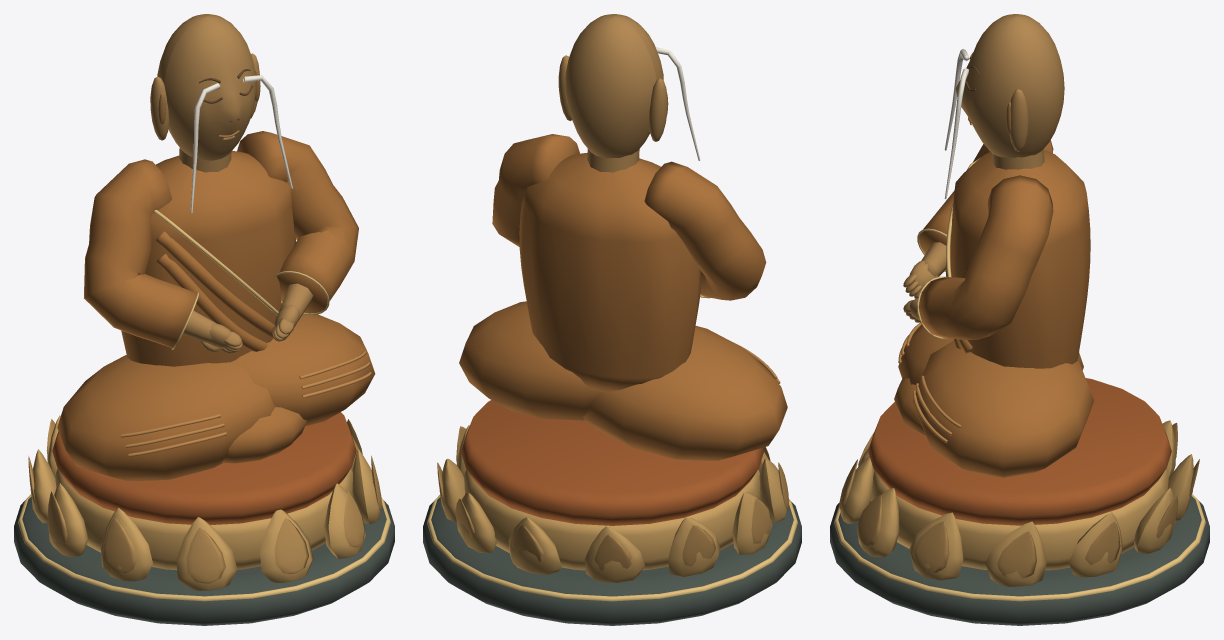
The model's file is arhat_05_lod1.glb.
3 views of the same model, side by side, from view 1: azimuth 30°, elevation 25°; view 2: azimuth 150°, elevation 25°; view 3: azimuth 270°, elevation 25° (orthographic).
Parts seen in each view (by area): view 1: arhat_05_ArhatDrapery, arhat_05_AntiqueGold, arhat_05_CarvedPlinth, arhat_05_SaffronDrapery, arhat_05_WarmBronze, arhat_05_GoldPetalRelief, arhat_05_RaisedGoldBorders, arhat_05_DraperyFoldHighlights, arhat_05_WarmPorcelain; view 2: arhat_05_ArhatDrapery, arhat_05_SaffronDrapery, arhat_05_CarvedPlinth, arhat_05_AntiqueGold, arhat_05_WarmBronze, arhat_05_GoldPetalRelief, arhat_05_RaisedGoldBorders, arhat_05_WarmPorcelain; view 3: arhat_05_ArhatDrapery, arhat_05_SaffronDrapery, arhat_05_CarvedPlinth, arhat_05_AntiqueGold, arhat_05_WarmBronze, arhat_05_GoldPetalRelief, arhat_05_RaisedGoldBorders, arhat_05_WarmPorcelain, arhat_05_DraperyFoldHighlights.
Part boxes in pixels (x1,y1,x2,y2): arhat_05_ArhatDrapery: (57, 131, 375, 480); arhat_05_AntiqueGold: (30, 415, 382, 590); arhat_05_CarvedPlinth: (14, 497, 394, 625); arhat_05_SaffronDrapery: (52, 412, 356, 524); arhat_05_WarmBronze: (150, 14, 312, 353); arhat_05_GoldPetalRelief: (28, 419, 381, 583); arhat_05_RaisedGoldBorders: (18, 210, 390, 601); arhat_05_DraperyFoldHighlights: (120, 351, 371, 456); arhat_05_WarmPorcelain: (190, 75, 292, 212); arhat_05_ArhatDrapery: (459, 134, 787, 460); arhat_05_SaffronDrapery: (461, 400, 763, 525); arhat_05_CarvedPlinth: (423, 497, 801, 625); arhat_05_AntiqueGold: (439, 425, 789, 582); arhat_05_WarmBronze: (558, 14, 667, 172); arhat_05_GoldPetalRelief: (437, 426, 788, 570); arhat_05_RaisedGoldBorders: (427, 295, 797, 601); arhat_05_WarmPorcelain: (656, 47, 700, 160); arhat_05_ArhatDrapery: (894, 140, 1093, 477); arhat_05_SaffronDrapery: (868, 378, 1171, 525); arhat_05_CarvedPlinth: (830, 496, 1209, 625); arhat_05_AntiqueGold: (840, 420, 1193, 586); arhat_05_WarmBronze: (903, 14, 1064, 322); arhat_05_GoldPetalRelief: (839, 423, 1199, 578); arhat_05_RaisedGoldBorders: (834, 157, 1205, 601); arhat_05_WarmPorcelain: (944, 49, 969, 199); arhat_05_DraperyFoldHighlights: (898, 322, 961, 443).
Bounding box in the file's own units: 0.92 × 1.43 × 0.92.
